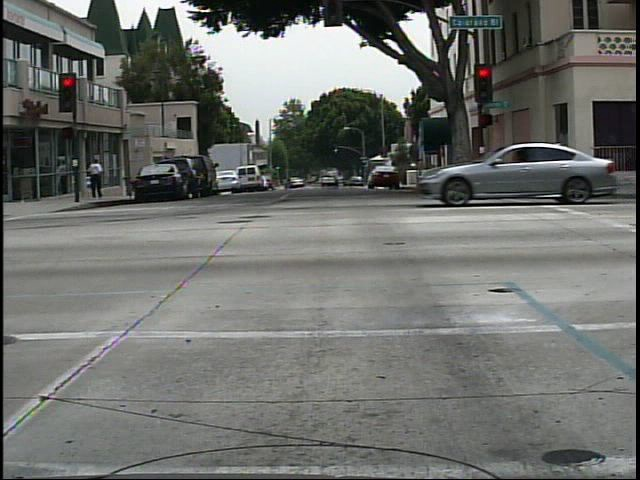person: (468, 142, 498, 194), (89, 154, 108, 202)
